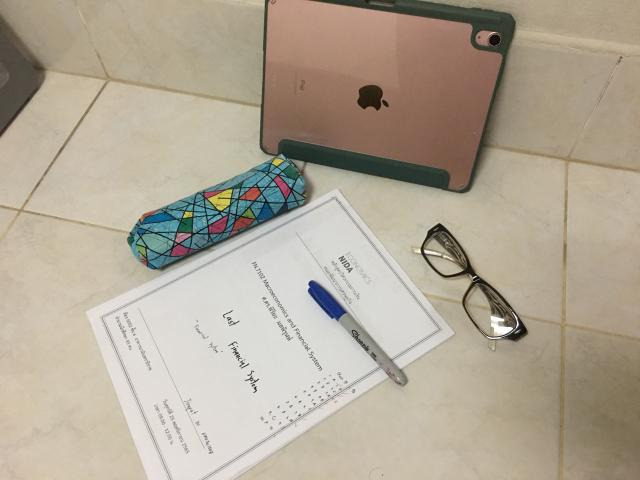Glasses: (420, 224, 528, 348)
Pen: (308, 281, 408, 385)
paper: (88, 190, 454, 479)
